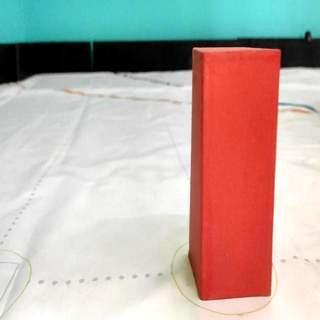redbox: (188, 45, 281, 302)
